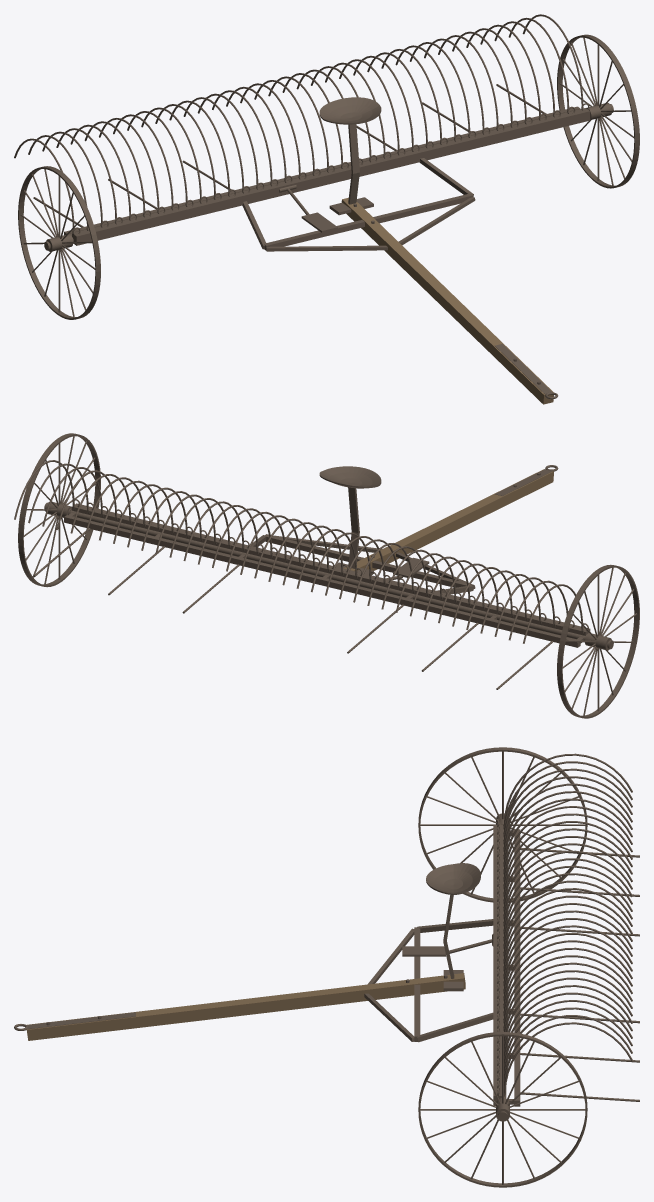
Rendered from NEW456_hay_rake_LOD1.glb.
The picture shows the model from 3 angles, top to bottom: view 1: azimuth 30°, elevation 25°; view 2: azimuth 150°, elevation 25°; view 3: azimuth 270°, elevation 25°; orthographic projection. The views are drawn at different scales.
Parts seen in each view (by area): view 1: rake_head_front, wood_drawbar, wheel_L_rim, wheel_R_rim, rake_head_rear, front_crossbar, seat_pan, drawbar_brace_-1; view 2: rake_head_rear, rake_head_front, wood_drawbar, fixed_axle, wheel_L_rim, wheel_R_rim, front_crossbar, seat_pan; view 3: wood_drawbar, rake_head_front, wheel_R_rim, wheel_L_rim, seat_pan, rake_head_rear, front_crossbar.
Boxes of the visible parts, <box> form: rake_head_front: <box>72,108,590,245</box>; wood_drawbar: <box>341,197,553,404</box>; wheel_L_rim: <box>18,166,100,319</box>; wheel_R_rim: <box>557,34,639,188</box>; rake_head_rear: <box>64,106,580,235</box>; front_crossbar: <box>264,194,473,250</box>; seat_pan: <box>319,97,381,124</box>; drawbar_brace_-1: <box>266,245,387,251</box>; rake_head_rear: <box>64,515,580,647</box>; rake_head_front: <box>72,503,590,635</box>; wood_drawbar: <box>343,469,553,571</box>; fixed_axle: <box>70,510,608,645</box>; wheel_L_rim: <box>557,564,639,718</box>; wheel_R_rim: <box>18,433,100,587</box>; front_crossbar: <box>264,534,473,591</box>; seat_pan: <box>319,466,381,488</box>; wood_drawbar: <box>26,973,465,1040</box>; rake_head_front: <box>493,824,503,1105</box>; wheel_R_rim: <box>418,1032,587,1187</box>; wheel_L_rim: <box>418,747,587,902</box>; seat_pan: <box>426,863,480,895</box>; rake_head_rear: <box>514,829,520,1106</box>; front_crossbar: <box>414,927,420,1041</box>.
Size of the model in its own units: 3.71 by 0.98 by 3.29.
